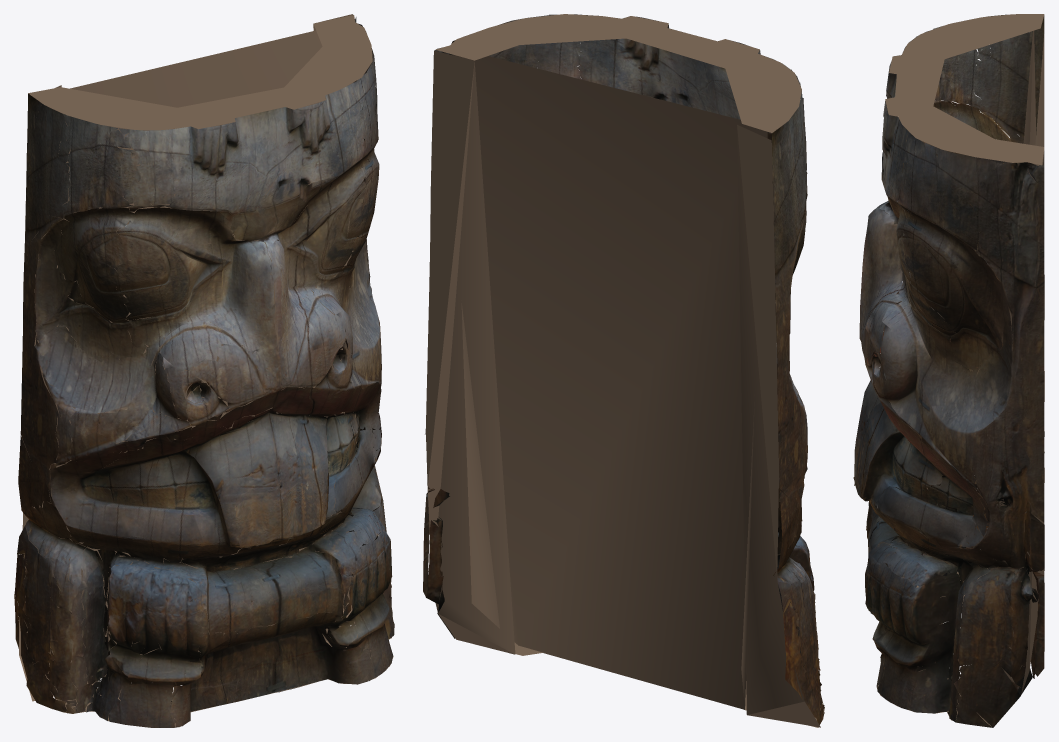
Rendered from totem_pole.glb.
The picture shows the model from 3 angles, left to right: view 1: azimuth 30°, elevation 25°; view 2: azimuth 150°, elevation 25°; view 3: azimuth 270°, elevation 25°; orthographic projection. The views are drawn at different scales.
Parts seen in each view (by area): view 1: Object_2, Object_3, Object_4; view 2: Object_3, Object_2, Object_4; view 3: Object_2, Object_4, Object_3.
Part boxes in pixels (bbox=[...]): Object_2: bbox=[14, 14, 394, 727]; Object_3: bbox=[19, 14, 356, 701]; Object_4: bbox=[28, 15, 393, 727]; Object_3: bbox=[426, 51, 820, 727]; Object_2: bbox=[423, 14, 824, 727]; Object_4: bbox=[435, 14, 824, 727]; Object_2: bbox=[853, 14, 1044, 727]; Object_4: bbox=[877, 14, 1044, 726]; Object_3: bbox=[988, 30, 1044, 693].
Size of the model in its own units: 1.55 by 2.42 by 0.7472.
3 materials, 3 textured.
